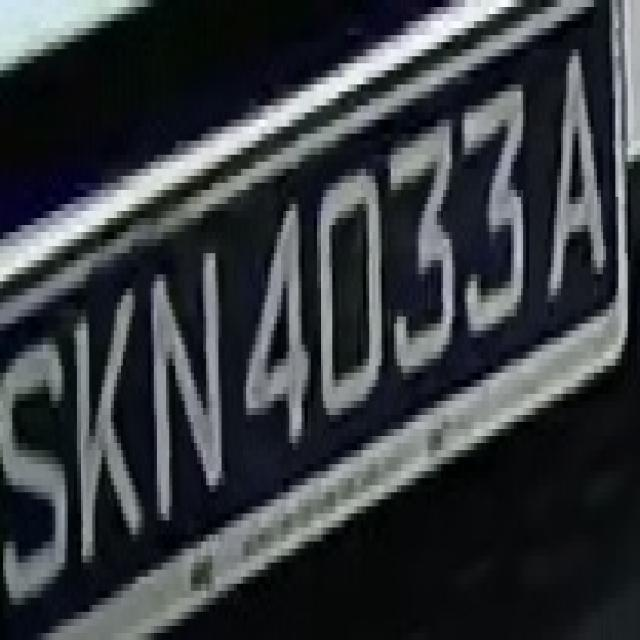0: (308, 162, 390, 436)
3: (446, 70, 532, 352), (388, 119, 464, 401)
4: (218, 169, 317, 457)
A: (523, 35, 609, 331)
K: (68, 246, 144, 563)
N: (141, 225, 234, 528)
S: (9, 281, 68, 626)
